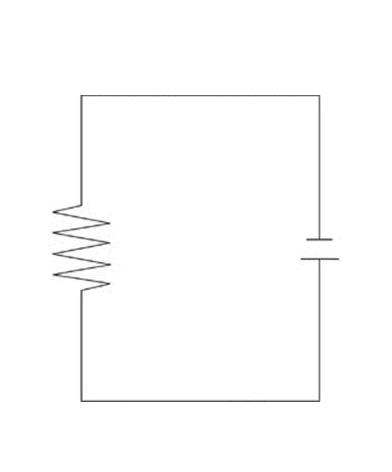resistor: (47, 177, 123, 321)
